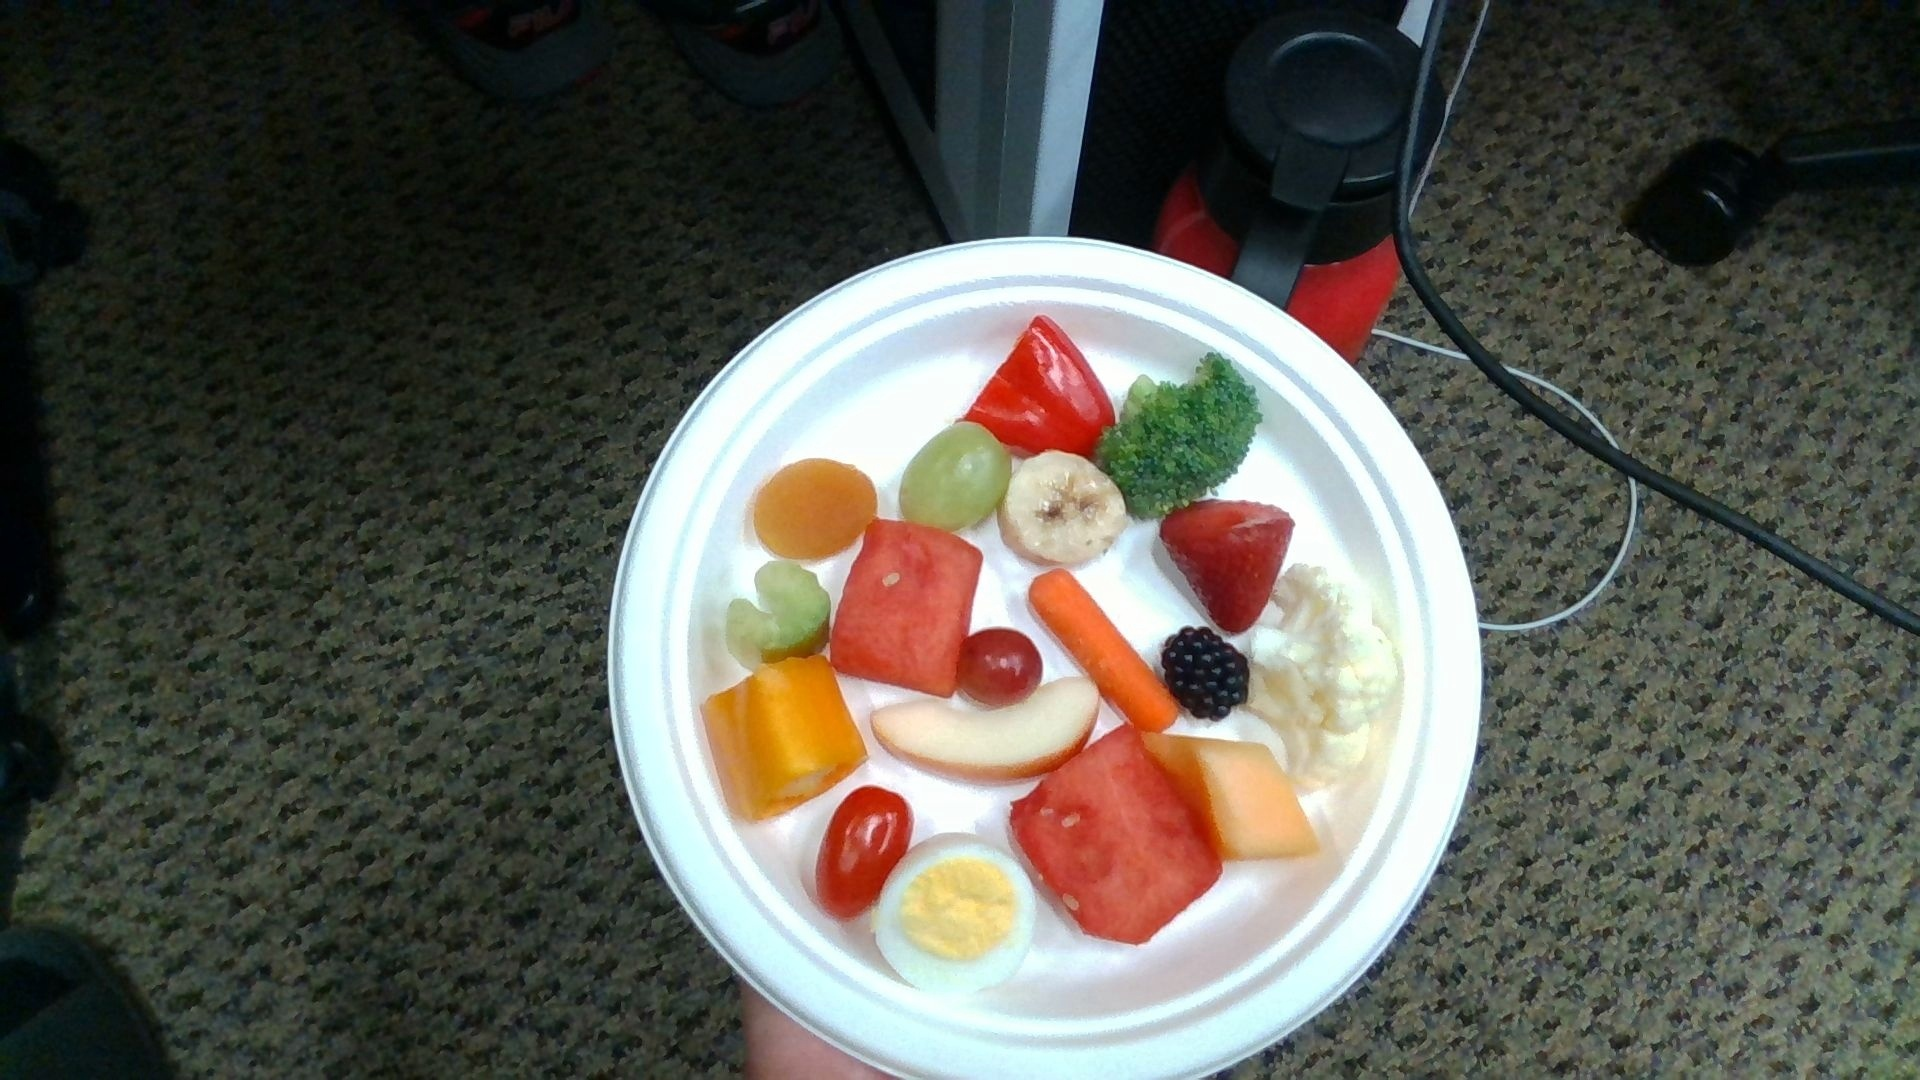apple: (872, 680, 1100, 778)
apricot: (756, 458, 880, 560)
banana: (1004, 450, 1124, 564)
bell_pepper: (702, 658, 866, 820), (969, 313, 1116, 460)
blackberry: (1164, 630, 1250, 723)
broccoli: (1098, 353, 1259, 516)
cantalope: (1145, 725, 1317, 856)
carrot: (1029, 571, 1175, 731)
cauliflower: (1251, 566, 1399, 785)
celery: (724, 563, 832, 670)
cherry_tomato: (819, 785, 914, 915)
egg: (874, 833, 1034, 993)
grape_green: (899, 425, 1007, 527)
grape_purple: (959, 628, 1042, 703)
melon: (1010, 728, 1220, 940), (832, 521, 980, 694)
strawberry: (1160, 502, 1290, 630)
